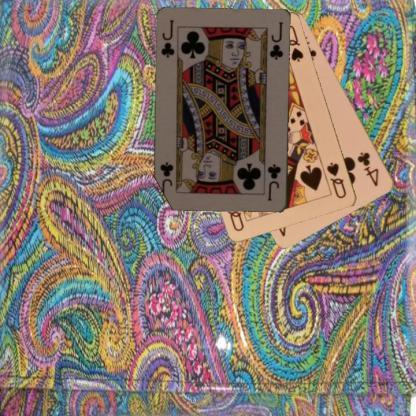4c: (354, 148, 380, 188)
Jc: (265, 162, 283, 202), (159, 17, 176, 59)
Qs: (324, 159, 348, 200)
